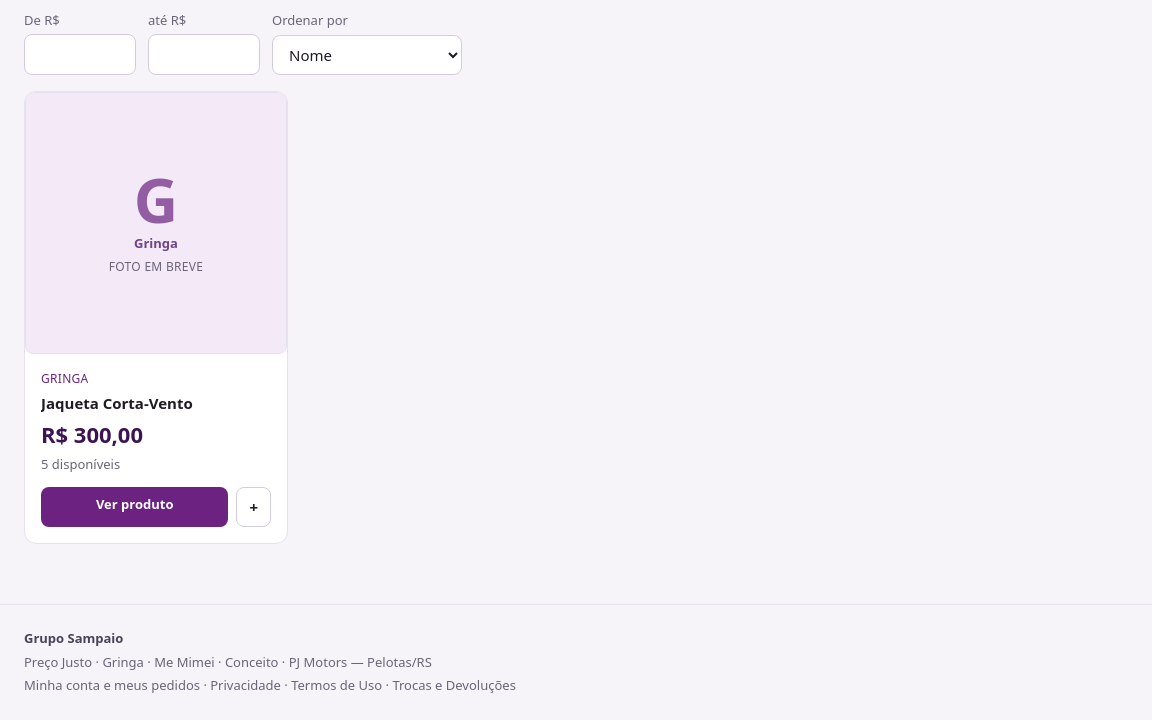
Test case: com conta (GAP-PRD-043) › pré-preenche do perfil, mostra o documento da conta mascarado e diz quem compra
This screenshot has width=1152, height=720.
(page scrolled)
Expected: the text "Jaqueta Corta-Vento" is shown, [41,392,193,412]
Click the button "+": point(254, 507) [236,486,271,527]
(page scrolled)
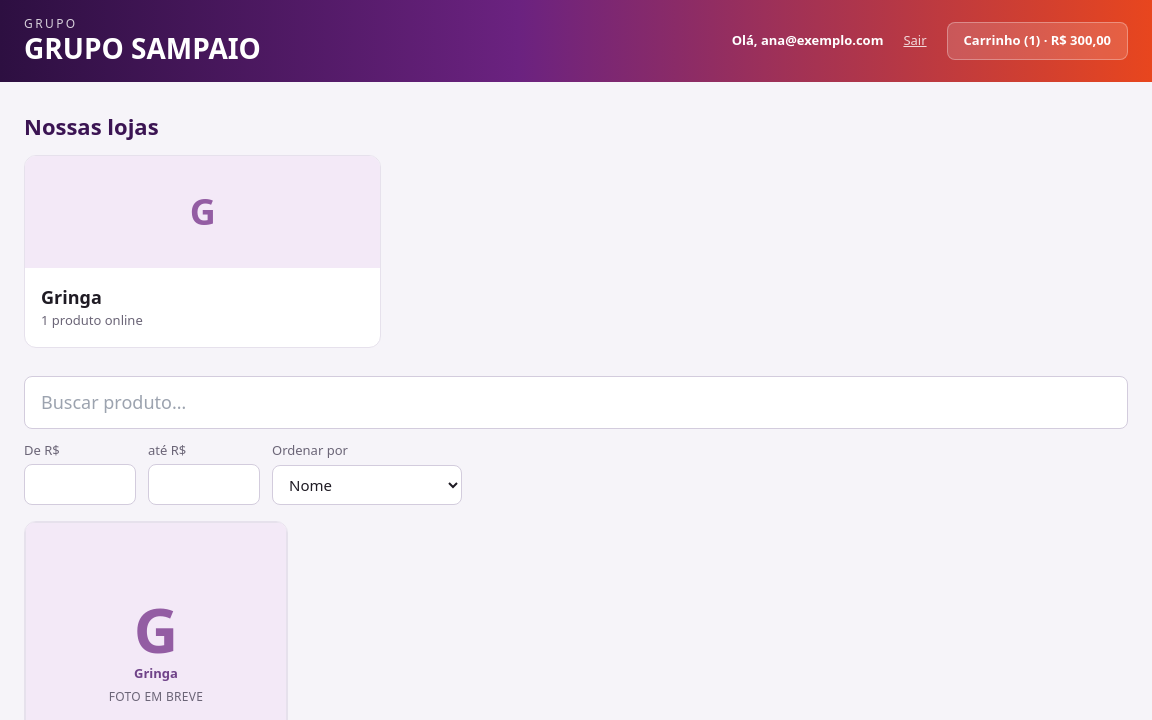
Click the button "Carrinho (1) · R$ 300,00": point(1037, 41) [947,22,1128,60]
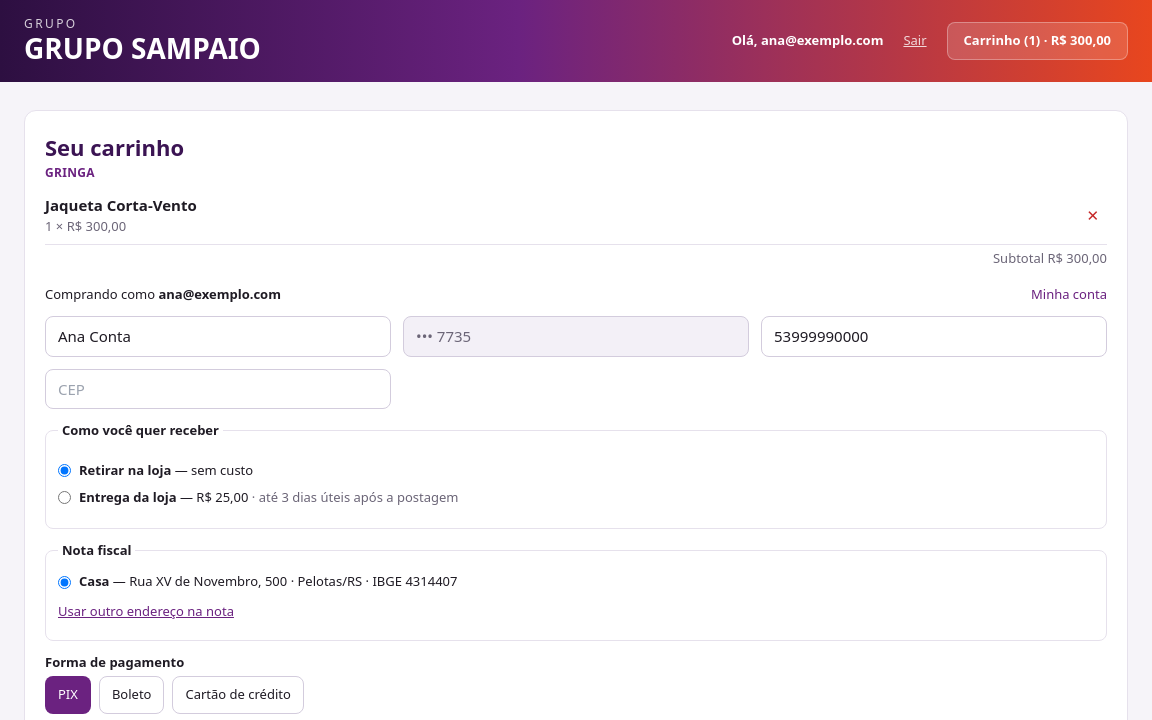
Result: the text "Retirar na loja" is shown at [79,460,171,478]
Result: the text "ana@exemplo.com" is shown at [158,284,281,302]
Result: the field named "nome" holds "Ana Conta" at [45,316,391,356]
